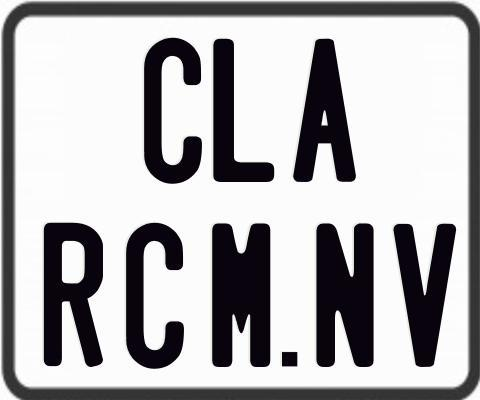A: (293, 37, 360, 184)
C: (123, 220, 185, 372), (144, 36, 202, 182)
L: (210, 38, 275, 181)
M: (210, 220, 274, 366)
N: (316, 222, 374, 368)
R: (43, 222, 103, 369)
V: (392, 223, 459, 371)
